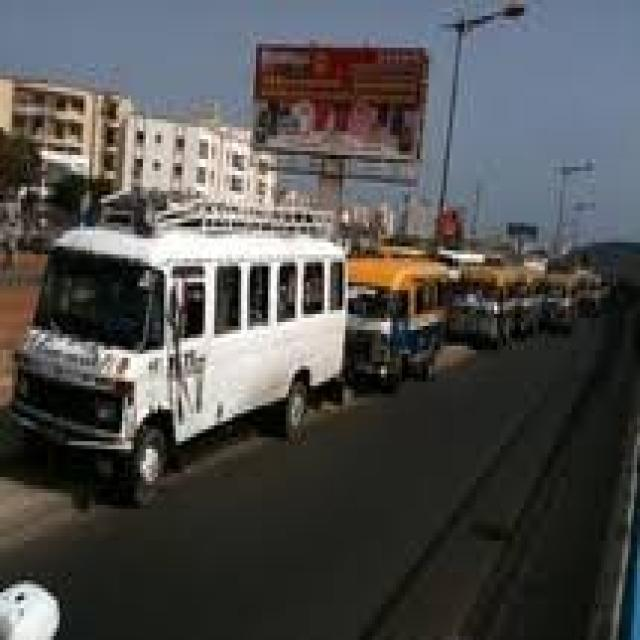car rapide: (347, 262, 450, 379), (451, 260, 547, 348), (546, 258, 611, 325)
ndiaga ndiaye: (19, 230, 346, 483)
